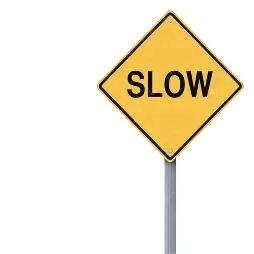Slow: (100, 13, 238, 159)
